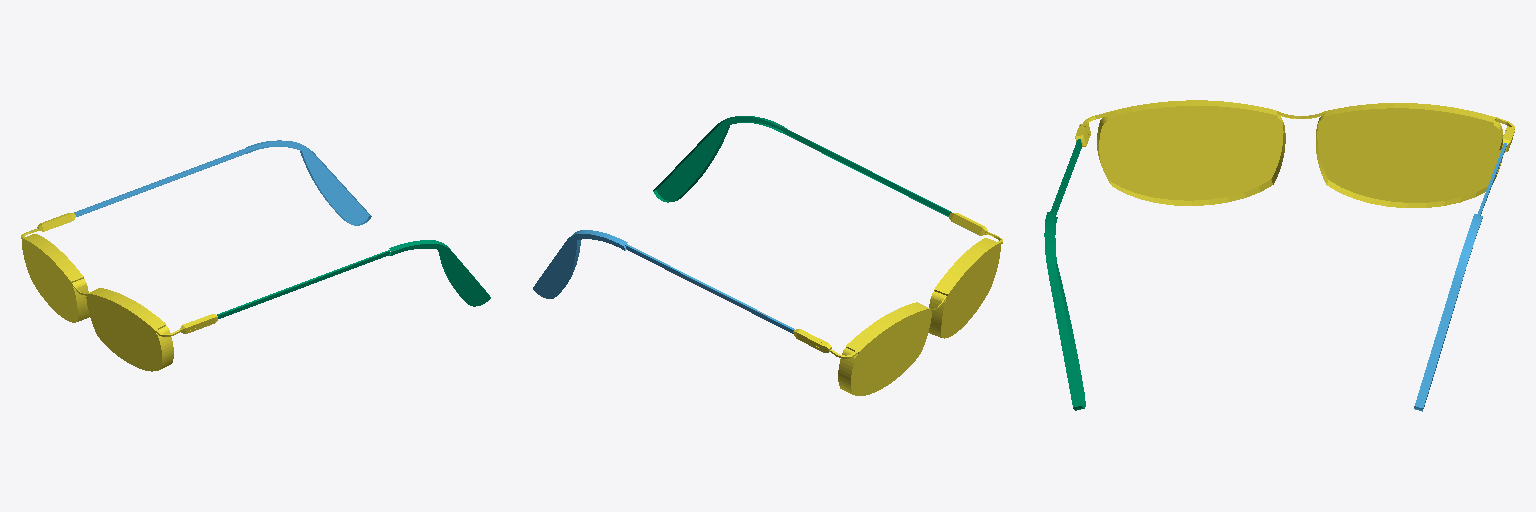
URDF robot description (partnet_6570cb4c8e3d4f855db89a6b4ebc7e35-0):
<?xml version='1.0' encoding='utf-8'?>
<robot name="partnet_6570cb4c8e3d4f855db89a6b4ebc7e35-0">
	<link name="base" />
	<link name="link_0">
		<visual name="leg-1">
			<origin xyz="0.45507735704626007 -0.06206694441273264 -0.10080566593443455" />
			<geometry>
				<mesh filename="textured_objs/original-12.obj" />
			</geometry>
		</visual>
		<visual name="leg-1">
			<origin xyz="0.45507735704626007 -0.06206694441273264 -0.10080566593443455" />
			<geometry>
				<mesh filename="textured_objs/original-15.obj" />
			</geometry>
		</visual>
		<collision>
			<origin xyz="0.45507735704626007 -0.06206694441273264 -0.10080566593443455" />
			<geometry>
				<mesh filename="textured_objs/original-12.obj" />
			</geometry>
		</collision>
		<collision>
			<origin xyz="0.45507735704626007 -0.06206694441273264 -0.10080566593443455" />
			<geometry>
				<mesh filename="textured_objs/original-15.obj" />
			</geometry>
		</collision>
	</link>
	<joint name="joint_0" type="revolute">
		<origin xyz="-0.45507735704626007 0.06206694441273264 0.10080566593443455" />
		<axis xyz="0 -1 0" />
		<child link="link_0" />
		<parent link="link_2" />
		<limit lower="-0.0" upper="1.262920246743096" />
	</joint>
	<link name="link_1">
		<visual name="leg-2">
			<origin xyz="-0.4548917935170296 -0.07345574217462492 -0.0886938003730054" />
			<geometry>
				<mesh filename="textured_objs/original-7.obj" />
			</geometry>
		</visual>
		<visual name="leg-2">
			<origin xyz="-0.4548917935170296 -0.07345574217462492 -0.0886938003730054" />
			<geometry>
				<mesh filename="textured_objs/original-10.obj" />
			</geometry>
		</visual>
		<collision>
			<origin xyz="-0.4548917935170296 -0.07345574217462492 -0.0886938003730054" />
			<geometry>
				<mesh filename="textured_objs/original-7.obj" />
			</geometry>
		</collision>
		<collision>
			<origin xyz="-0.4548917935170296 -0.07345574217462492 -0.0886938003730054" />
			<geometry>
				<mesh filename="textured_objs/original-10.obj" />
			</geometry>
		</collision>
	</link>
	<joint name="joint_1" type="revolute">
		<origin xyz="0.4548917935170296 0.07345574217462492 0.0886938003730054" />
		<axis xyz="0 1 0" />
		<child link="link_1" />
		<parent link="link_2" />
		<limit lower="0.0" upper="1.5205308443374599" />
	</joint>
	<link name="link_2">
		<visual name="base_body-3">
			<origin xyz="0 0 0" />
			<geometry>
				<mesh filename="textured_objs/original-4.obj" />
			</geometry>
		</visual>
		<visual name="base_body-3">
			<origin xyz="0 0 0" />
			<geometry>
				<mesh filename="textured_objs/original-2.obj" />
			</geometry>
		</visual>
		<visual name="base_body-3">
			<origin xyz="0 0 0" />
			<geometry>
				<mesh filename="textured_objs/original-16.obj" />
			</geometry>
		</visual>
		<visual name="base_body-3">
			<origin xyz="0 0 0" />
			<geometry>
				<mesh filename="textured_objs/original-8.obj" />
			</geometry>
		</visual>
		<visual name="base_body-3">
			<origin xyz="0 0 0" />
			<geometry>
				<mesh filename="textured_objs/original-13.obj" />
			</geometry>
		</visual>
		<visual name="base_body-3">
			<origin xyz="0 0 0" />
			<geometry>
				<mesh filename="textured_objs/original-9.obj" />
			</geometry>
		</visual>
		<visual name="base_body-3">
			<origin xyz="0 0 0" />
			<geometry>
				<mesh filename="textured_objs/original-5.obj" />
			</geometry>
		</visual>
		<visual name="base_body-3">
			<origin xyz="0 0 0" />
			<geometry>
				<mesh filename="textured_objs/original-17.obj" />
			</geometry>
		</visual>
		<visual name="base_body-3">
			<origin xyz="0 0 0" />
			<geometry>
				<mesh filename="textured_objs/original-1.obj" />
			</geometry>
		</visual>
		<visual name="base_body-3">
			<origin xyz="0 0 0" />
			<geometry>
				<mesh filename="textured_objs/original-14.obj" />
			</geometry>
		</visual>
		<collision>
			<origin xyz="0 0 0" />
			<geometry>
				<mesh filename="textured_objs/original-4.obj" />
			</geometry>
		</collision>
		<collision>
			<origin xyz="0 0 0" />
			<geometry>
				<mesh filename="textured_objs/original-2.obj" />
			</geometry>
		</collision>
		<collision>
			<origin xyz="0 0 0" />
			<geometry>
				<mesh filename="textured_objs/original-16.obj" />
			</geometry>
		</collision>
		<collision>
			<origin xyz="0 0 0" />
			<geometry>
				<mesh filename="textured_objs/original-8.obj" />
			</geometry>
		</collision>
		<collision>
			<origin xyz="0 0 0" />
			<geometry>
				<mesh filename="textured_objs/original-13.obj" />
			</geometry>
		</collision>
		<collision>
			<origin xyz="0 0 0" />
			<geometry>
				<mesh filename="textured_objs/original-9.obj" />
			</geometry>
		</collision>
		<collision>
			<origin xyz="0 0 0" />
			<geometry>
				<mesh filename="textured_objs/original-5.obj" />
			</geometry>
		</collision>
		<collision>
			<origin xyz="0 0 0" />
			<geometry>
				<mesh filename="textured_objs/original-17.obj" />
			</geometry>
		</collision>
		<collision>
			<origin xyz="0 0 0" />
			<geometry>
				<mesh filename="textured_objs/original-1.obj" />
			</geometry>
		</collision>
		<collision>
			<origin xyz="0 0 0" />
			<geometry>
				<mesh filename="textured_objs/original-14.obj" />
			</geometry>
		</collision>
	</link>
	<joint name="joint_2" type="fixed">
		<origin rpy="1.570796326794897 0 -1.570796326794897" xyz="0 0 0" />
		<child link="link_2" />
		<parent link="base" />
	</joint>
</robot>

--- What the picture shows (computed from the rendered views, not written in the file) ---
The picture shows the robot from 3 angles, left to right: view 1: azimuth 30°, elevation 25°; view 2: azimuth 150°, elevation 25°; view 3: azimuth 270°, elevation 25°; orthographic projection.
Model partnet_6570cb4c8e3d4f855db89a6b4ebc7e35-0 with 4 links and 3 joints (2 revolute, 1 fixed), rooted at base, posed all joints at 0.
Visible links, largest first — view 1: link_2, link_0, link_1; view 2: link_2, link_1, link_0; view 3: link_2, link_1, link_0.
Boxes of the visible links, x1,y1,x2,y2 form: link_2: (21,213,217,371); link_0: (74,140,371,225); link_1: (217,240,490,318); link_2: (793,213,1002,395); link_1: (653,116,951,216); link_0: (533,230,794,333); link_2: (1075,100,1514,207); link_1: (1044,139,1085,410); link_0: (1414,143,1506,411).
Bounding box of the posed robot: 1.22 × 0.9955 × 0.3524 m (x, y, z).
Meshes: 14 distinct files referenced, 14 mesh visuals loaded (14 OBJ).